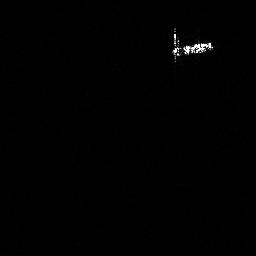ship: (167, 25, 217, 64)
